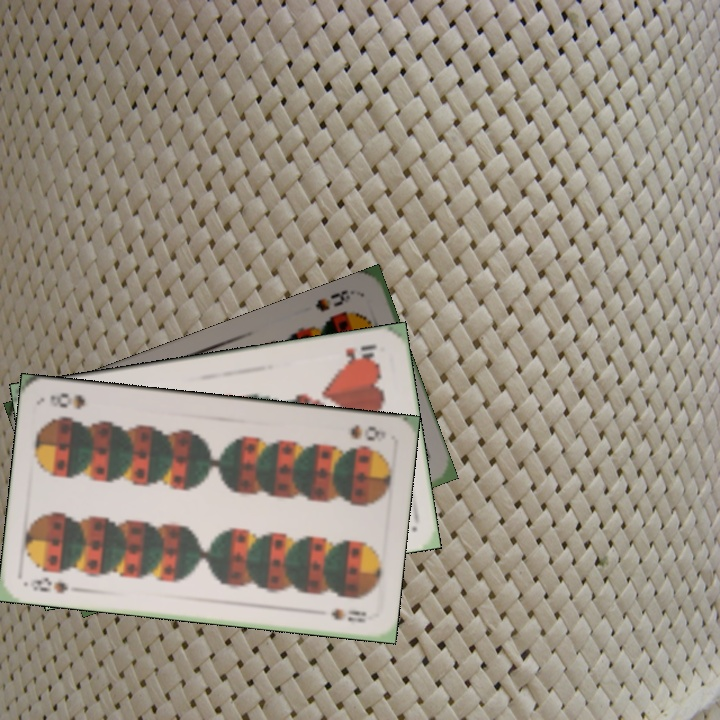HO: (341, 341, 380, 366)
S8: (311, 285, 363, 315), (26, 573, 71, 596), (346, 420, 382, 444)
